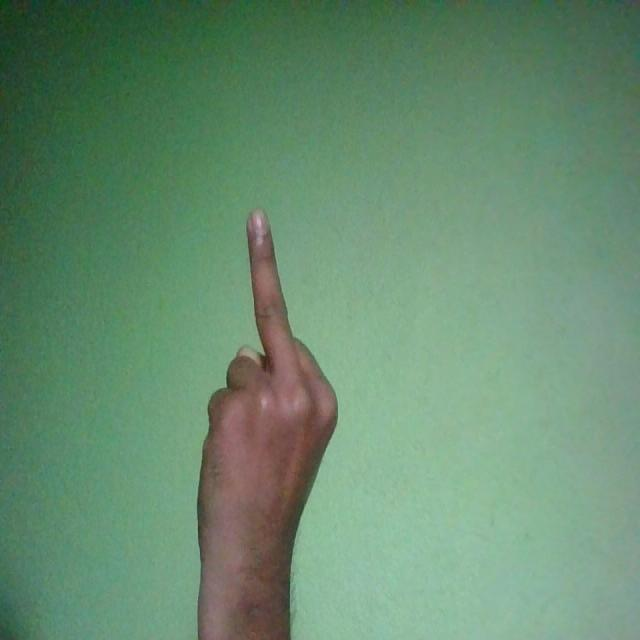Middle Finger: (196, 204, 338, 627)
